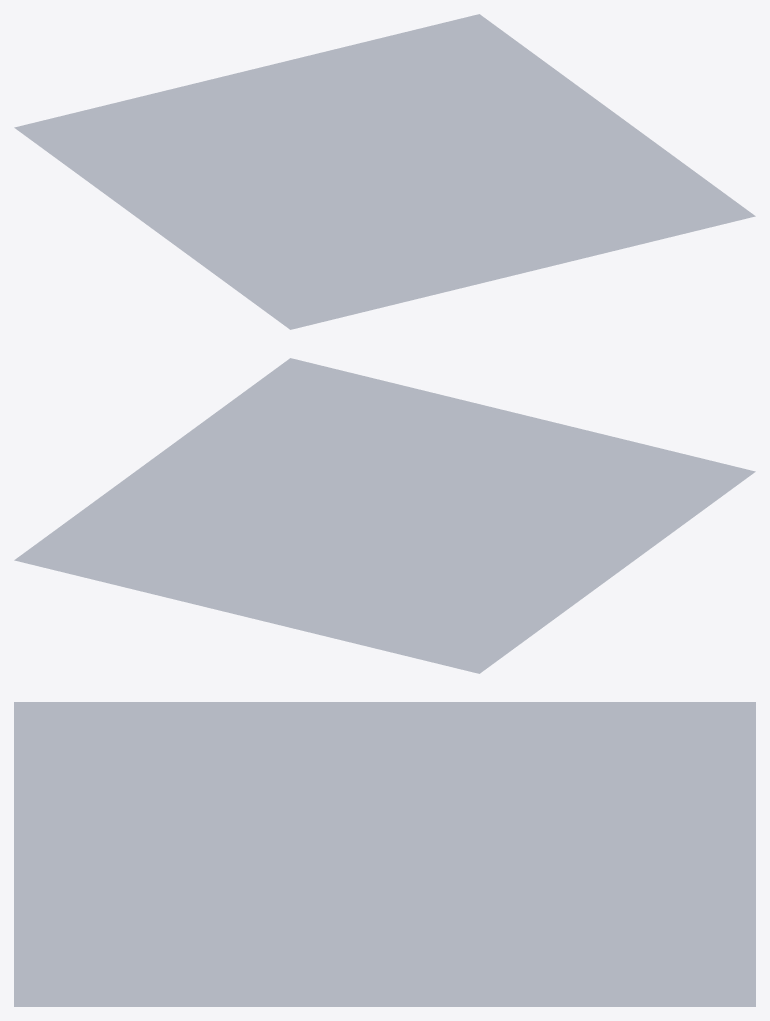
Rendered from apoc_object_3.glb.
3 renders of one model, top to bottom at view 1: azimuth 30°, elevation 25°; view 2: azimuth 150°, elevation 25°; view 3: azimuth 270°, elevation 25°, orthographic. The views are drawn at different scales.
Visible parts, largest first — view 1: Object_4; view 2: Object_4; view 3: Object_4.
Part boxes in pixels (x1,y1,x2,y2): Object_4: (14, 14, 755, 329); Object_4: (14, 358, 755, 673); Object_4: (14, 702, 755, 1006).
Size of the model in its own units: 8.3 by 1.9e-15 by 8.54.
1 material, 1 textured.
